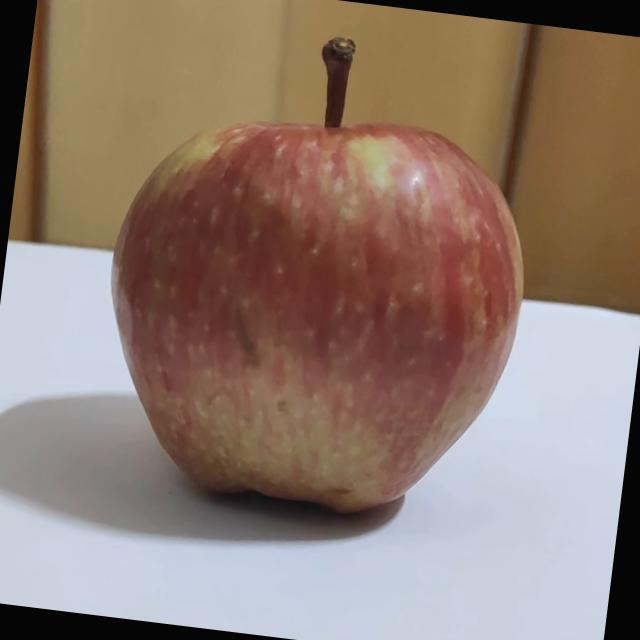apple: (81, 9, 557, 532)
